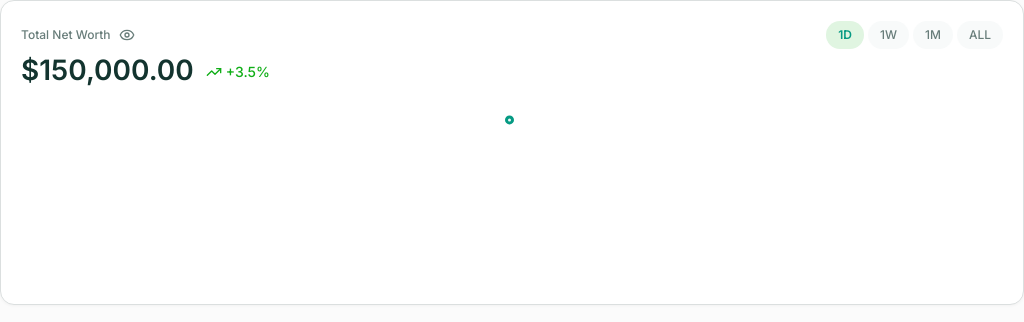
Test case: NetWorthCard › toggles visibility of balance when eye icon is clicked
Expected: the text "$150,000.00" is shown, [21,53,194,88]
// Find the toggle button
Click the button named "hide balance".
click(127, 35)  # box [119,27,135,43]
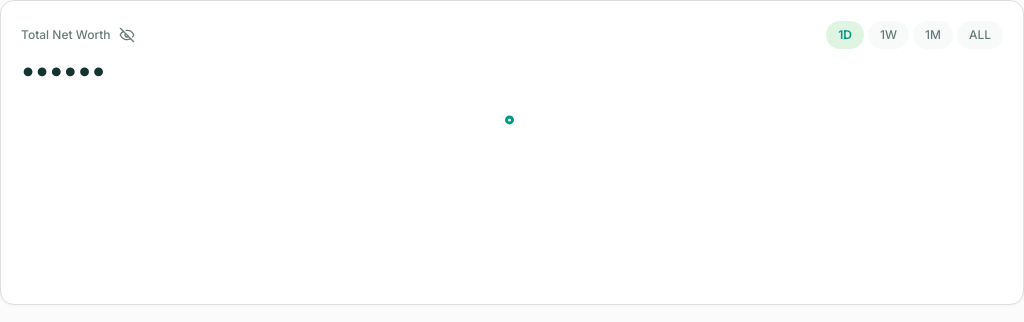
Now the text "$150,000.00" is gone
Now the text "••••••" is shown, box [21,53,106,88]
// Find the toggle button again to show
Click the button named "show balance".
click(127, 35)  # box [119,27,135,43]
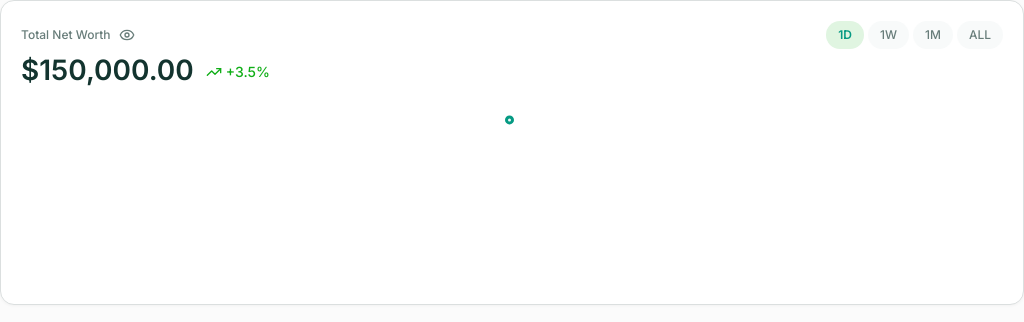
Now the text "$150,000.00" is shown, box [21,53,194,88]
